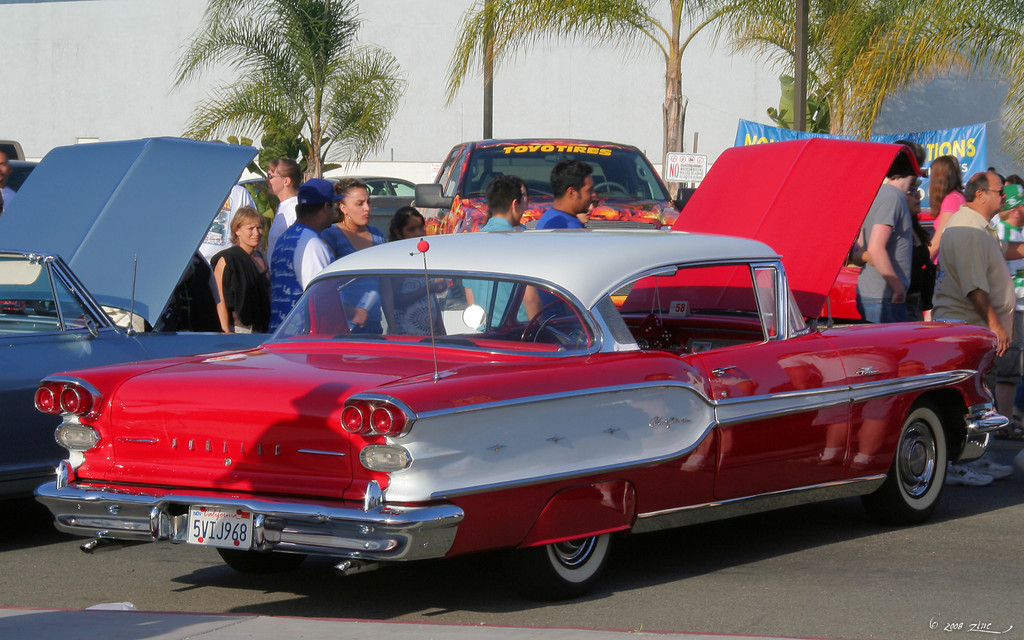cars: (31, 143, 1010, 592), (0, 126, 266, 483), (417, 134, 694, 227), (238, 179, 431, 242)
